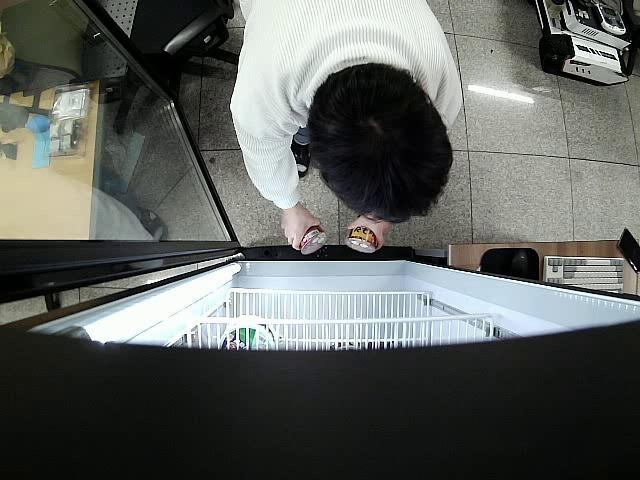06_nuguri_S: (296, 225, 330, 258), (344, 224, 379, 255)
